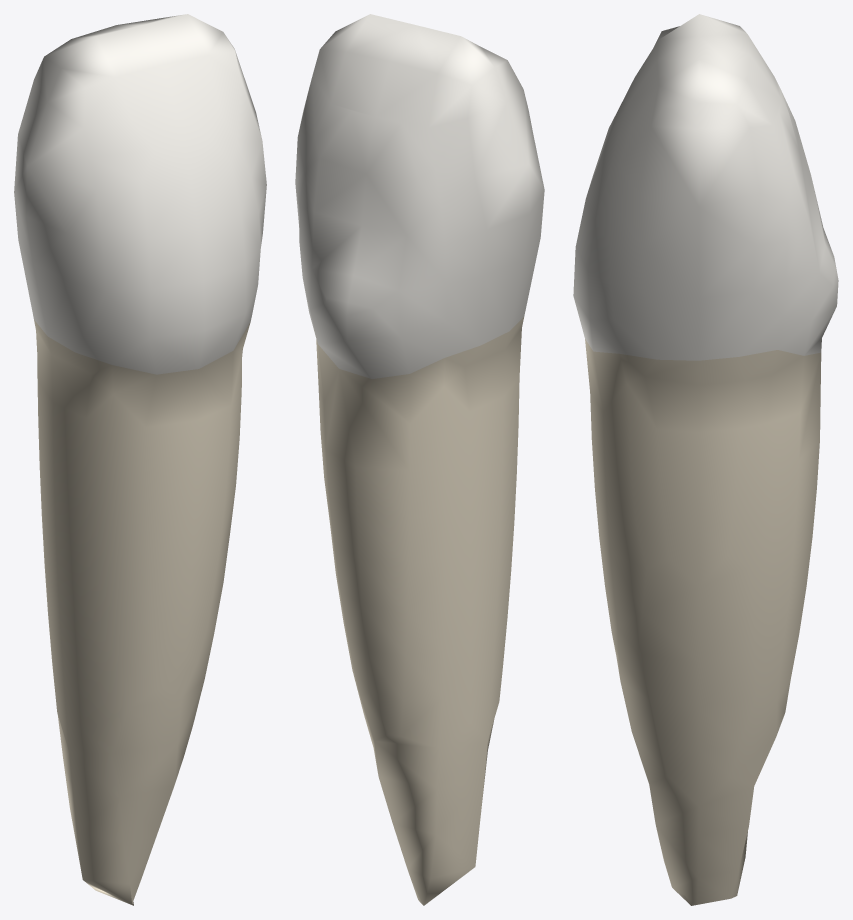
3 views of the same model, side by side, from view 1: azimuth 30°, elevation 25°; view 2: azimuth 150°, elevation 25°; view 3: azimuth 270°, elevation 25° (orthographic).
Parts seen in each view (by area): view 1: root, V, D, I, M; view 2: root, L, D, I, M; view 3: root, M, I, L, V.
Boxes of the visible parts, x1,y1,x2,y2 form: root: [34, 320, 250, 905]; V: [84, 108, 260, 374]; D: [14, 80, 111, 364]; I: [34, 14, 240, 127]; M: [219, 50, 266, 248]; root: [314, 317, 523, 905]; L: [299, 104, 447, 378]; D: [428, 89, 544, 357]; I: [312, 14, 523, 127]; M: [295, 77, 330, 227]; root: [585, 339, 821, 905]; M: [609, 125, 787, 360]; I: [630, 14, 781, 128]; L: [773, 88, 838, 355]; V: [573, 79, 634, 353].
Size of the model in its own units: 3.99 by 14.52 by 3.99.
